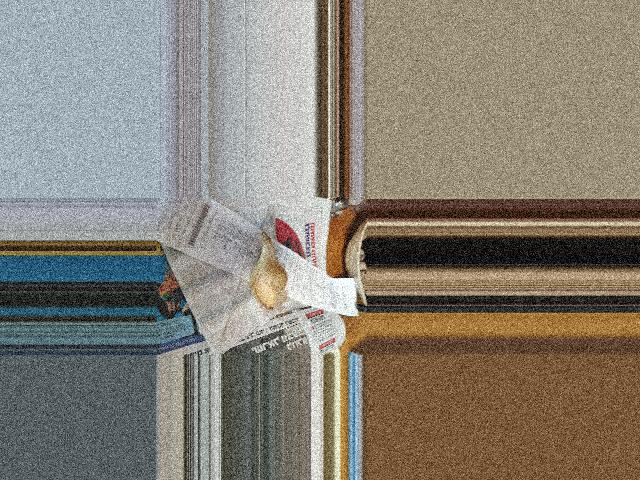onion: (247, 252, 288, 305)
